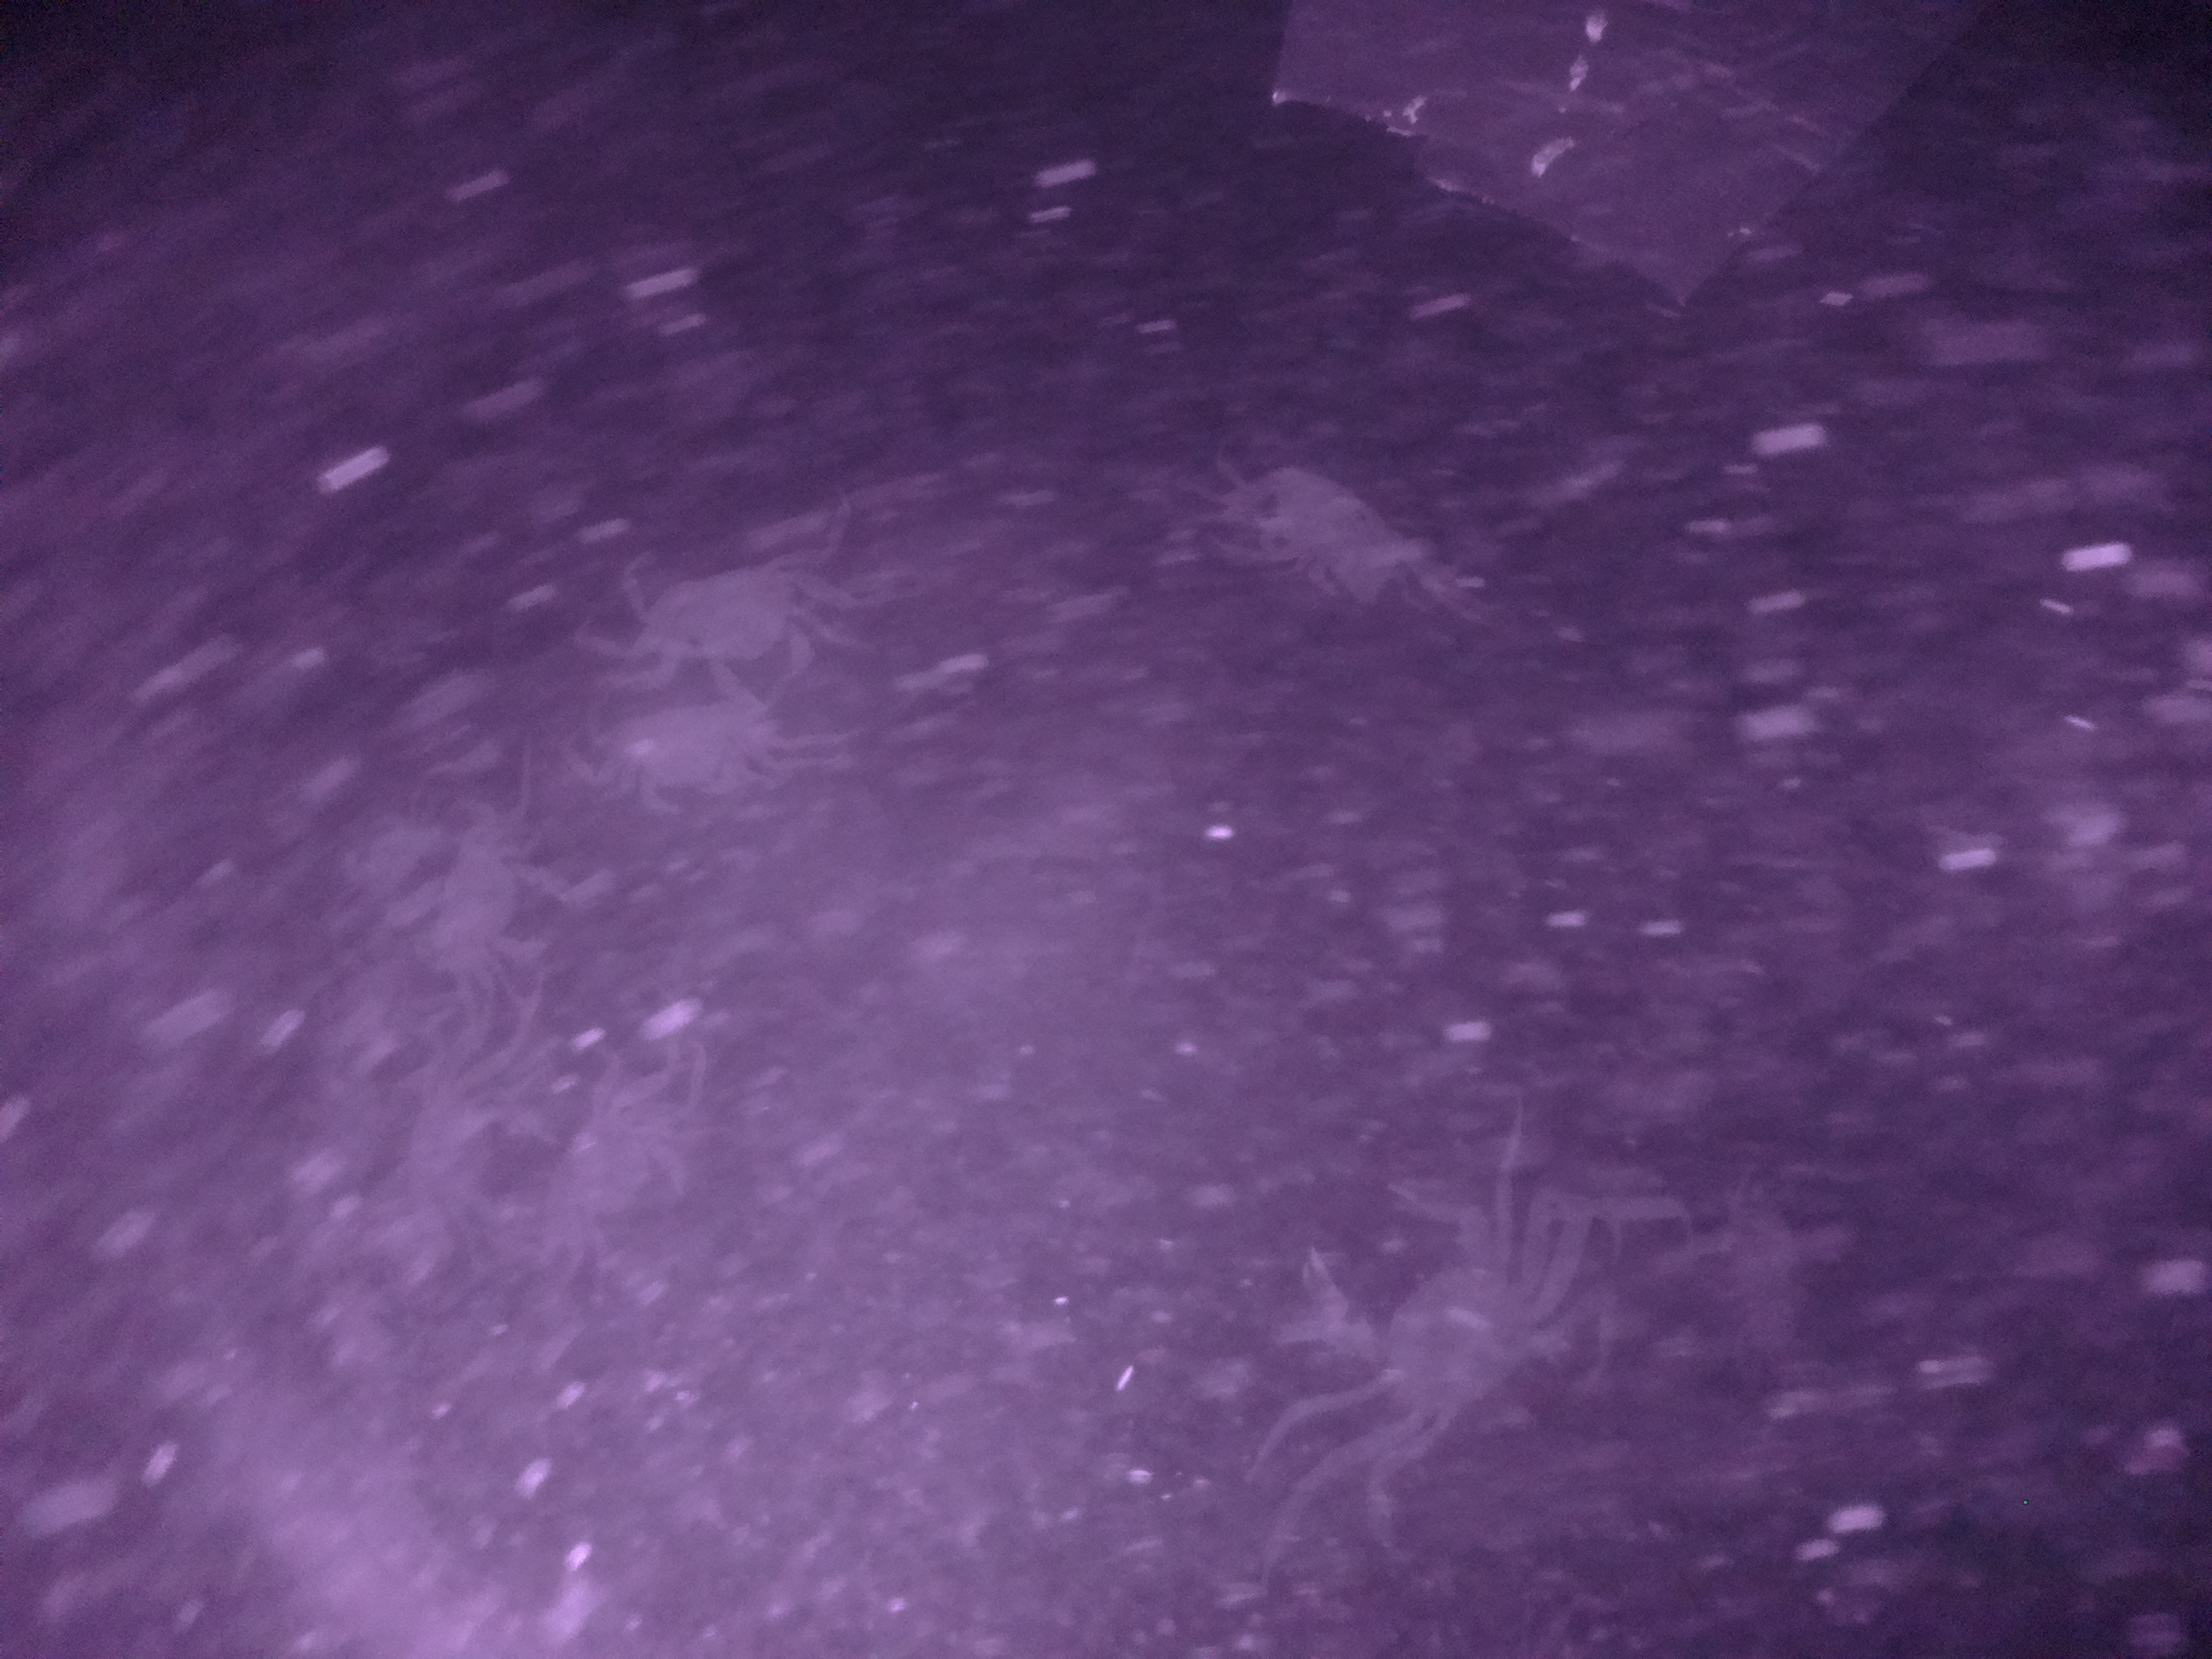Crab: (625, 547, 840, 702)
